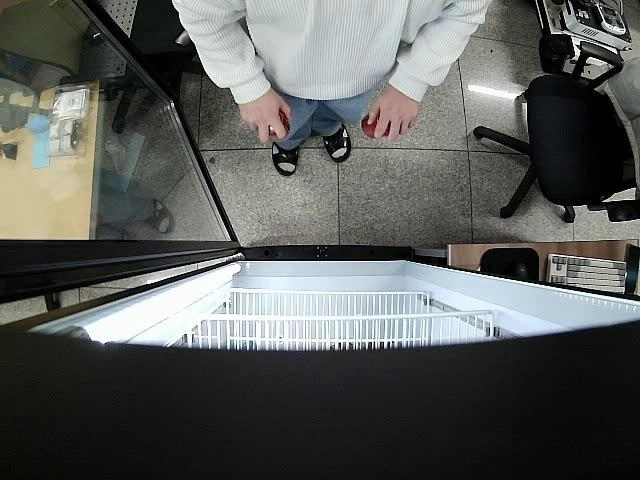11_cocaColaZero: (258, 107, 292, 142), (358, 108, 392, 142)
